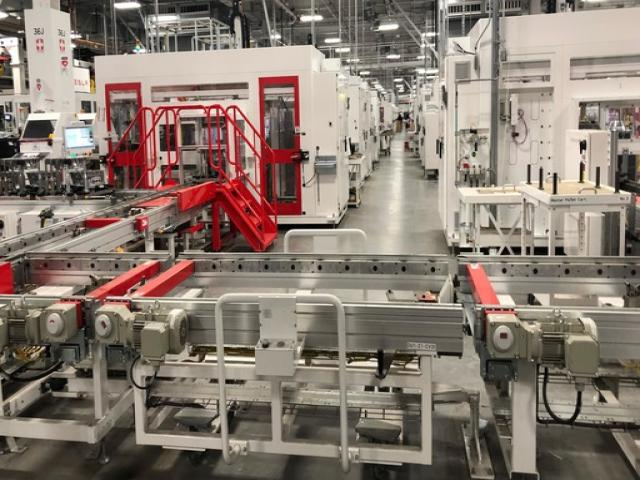conveyor: (24, 225, 640, 385)
